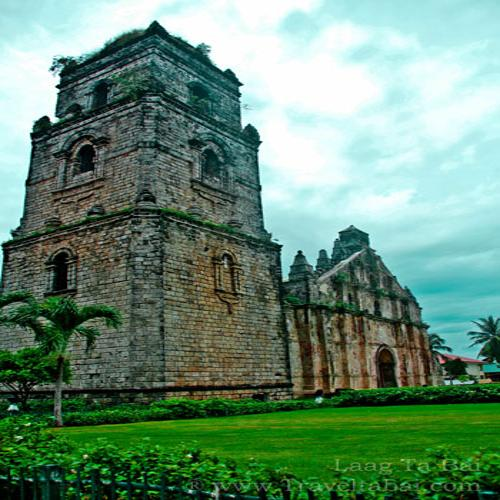Paoay Church: (15, 33, 446, 400)
